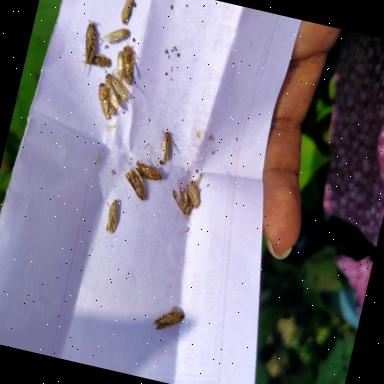pbw: (72, 19, 103, 78), (98, 66, 135, 112), (164, 183, 199, 228), (90, 78, 121, 122), (150, 302, 186, 336), (114, 45, 140, 91), (120, 166, 152, 202), (154, 130, 182, 166), (132, 159, 165, 182), (104, 198, 122, 236), (101, 24, 129, 47), (184, 180, 205, 210), (82, 50, 112, 70), (111, 51, 129, 82), (118, 0, 137, 25)
